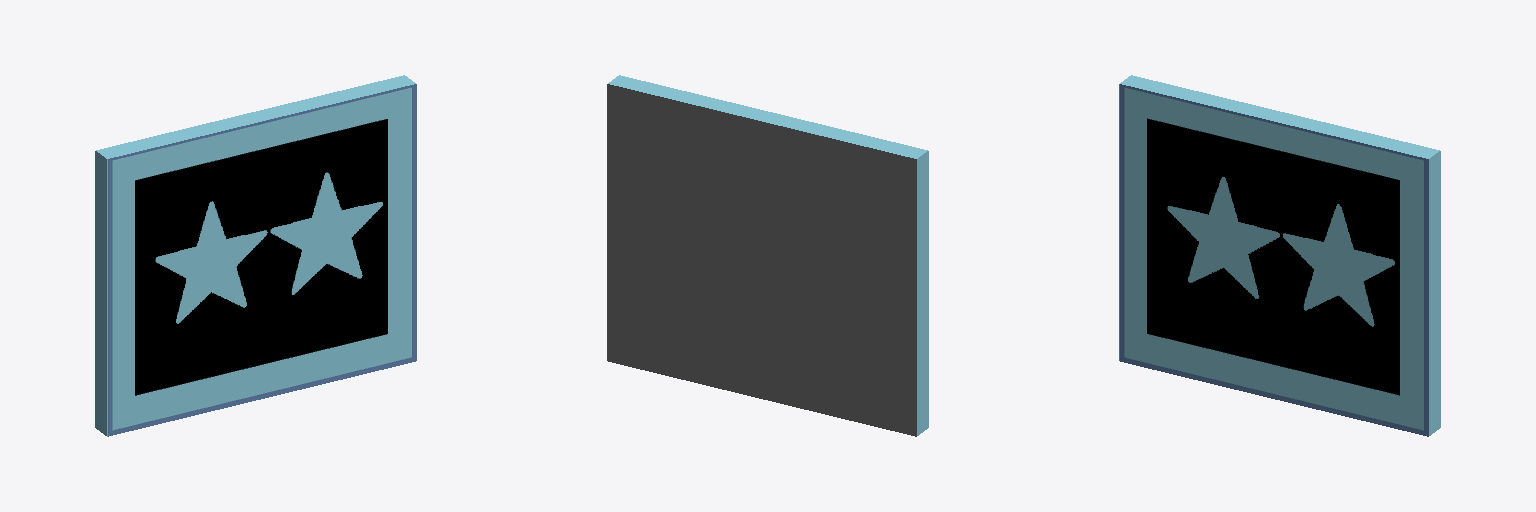
3 renders of one model, left to right at view 1: azimuth 30°, elevation 25°; view 2: azimuth 150°, elevation 25°; view 3: azimuth 330°, elevation 25°, orthographic.
Parts seen in each view (by area): view 1: pCube3; view 2: pCube3; view 3: pCube3.
Part boxes in pixels (x1,y1,x2,y2): pCube3: (95, 75, 416, 436); pCube3: (607, 75, 928, 436); pCube3: (1119, 75, 1440, 436).
Bounding box in the file's own units: 1.47 × 1.26 × 0.0979.
3 materials, 2 textured.